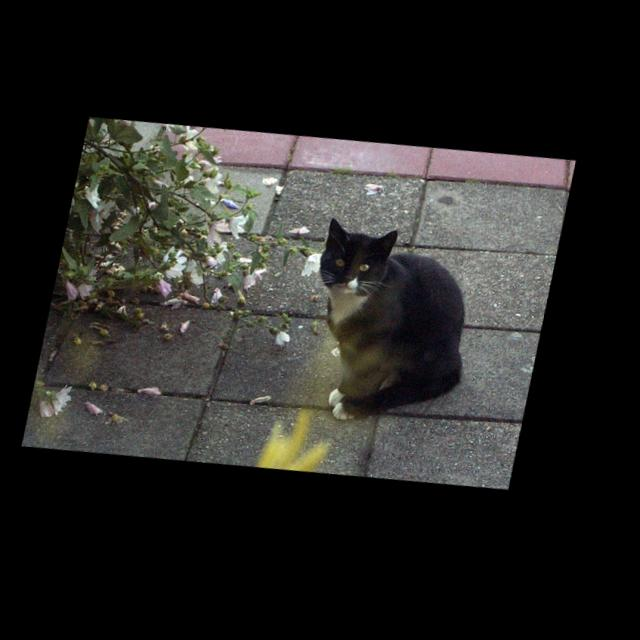animals: (325, 219, 403, 291)
